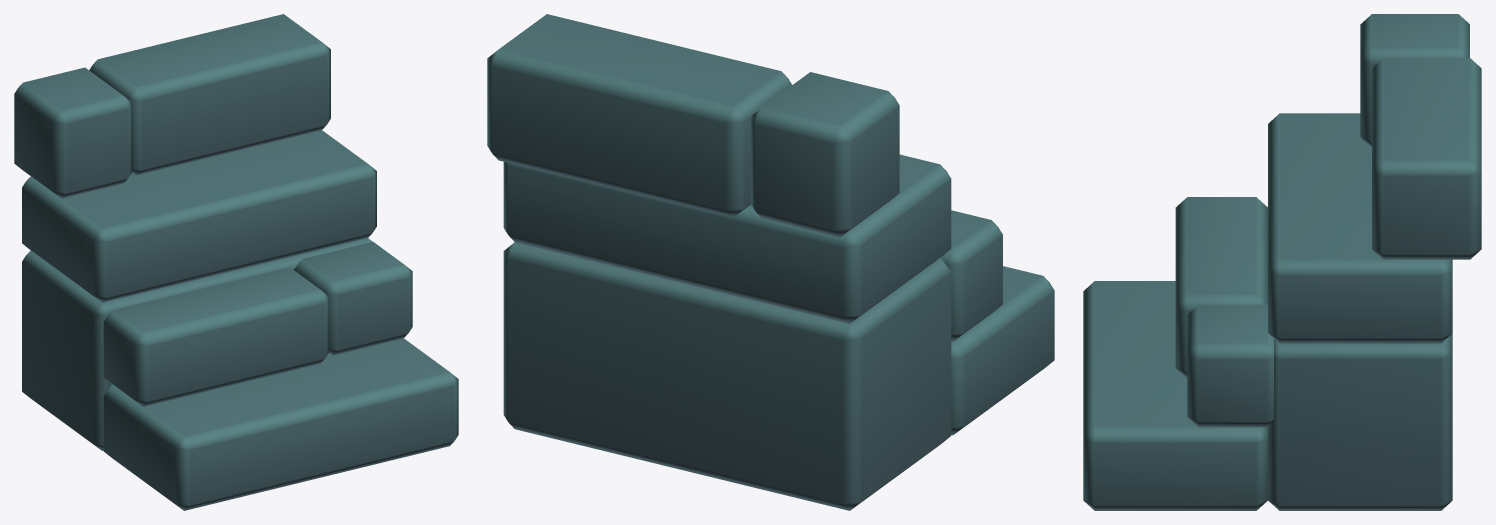
Rendered from stair_straight_2_hue_1.fbx.
The picture shows the model from 3 angles, left to right: view 1: azimuth 30°, elevation 25°; view 2: azimuth 150°, elevation 25°; view 3: azimuth 270°, elevation 25°; orthographic projection. The views are drawn at different scales.
Visible parts, largest first — view 1: stair_straight_2_hue_1; view 2: stair_straight_2_hue_1; view 3: stair_straight_2_hue_1.
Part boxes in pixels (x1,y1,x2,y2): stair_straight_2_hue_1: (14,14,458,510); stair_straight_2_hue_1: (487,14,1054,510); stair_straight_2_hue_1: (1083,14,1481,510).
Size of the model in its own units: 100 by 105 by 108.
